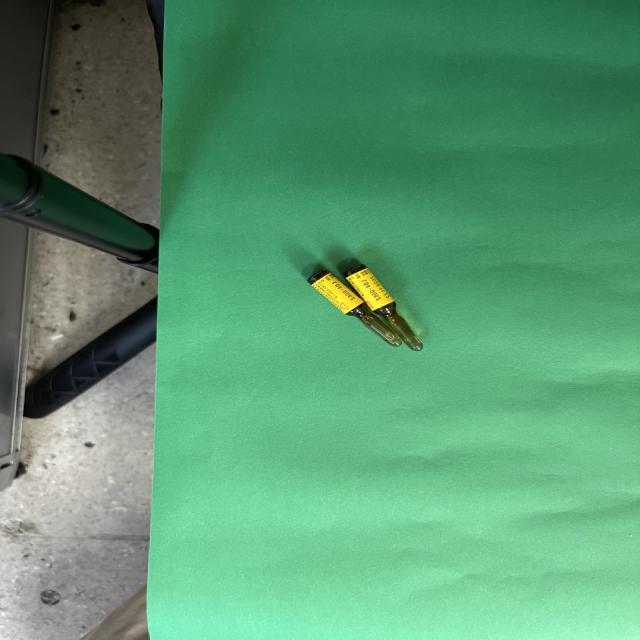Ampoules: (307, 266, 422, 351)
